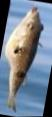fish: (6, 7, 43, 110)
